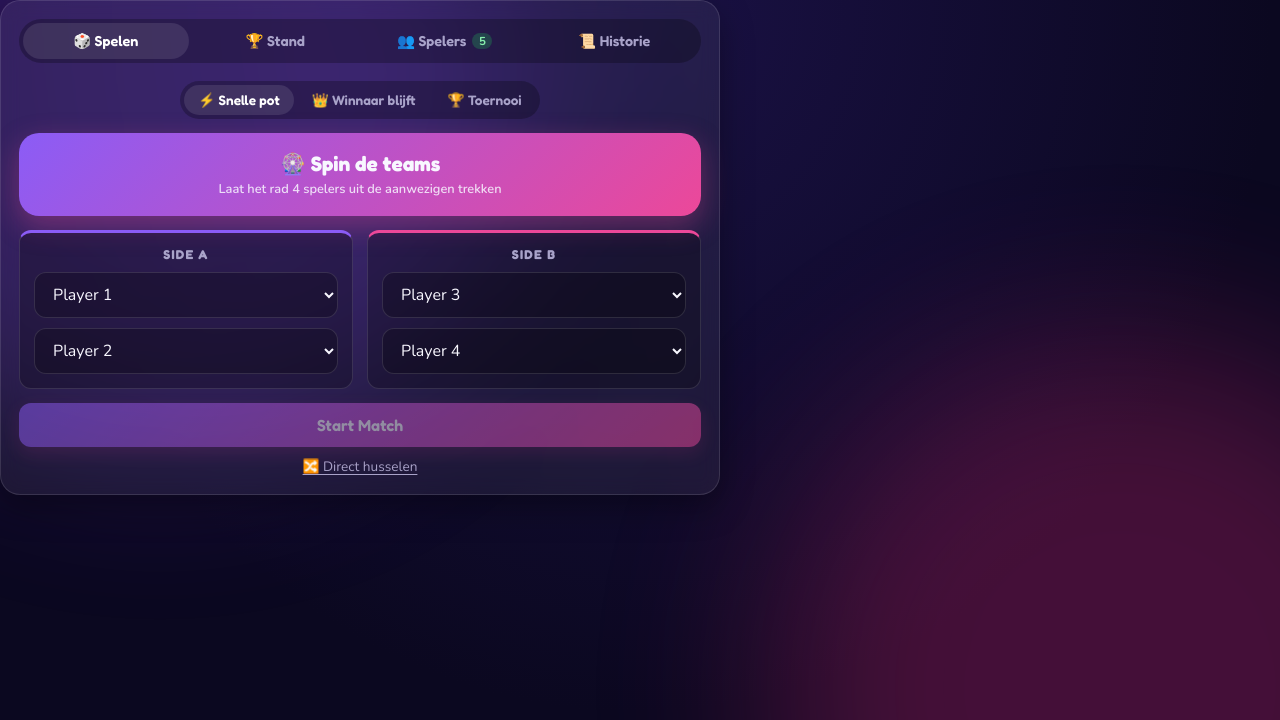
Test: spin for teams: the wheel draws four distinct present players
Expected: the tab "🎲 Spelen" is shown, [23,23,188,59]
Expected: the tab "👥 Spelers 5" is shown, [362,23,528,59]
Click the button "Spin de teams".
click(360, 174)  # box [19,133,701,216]
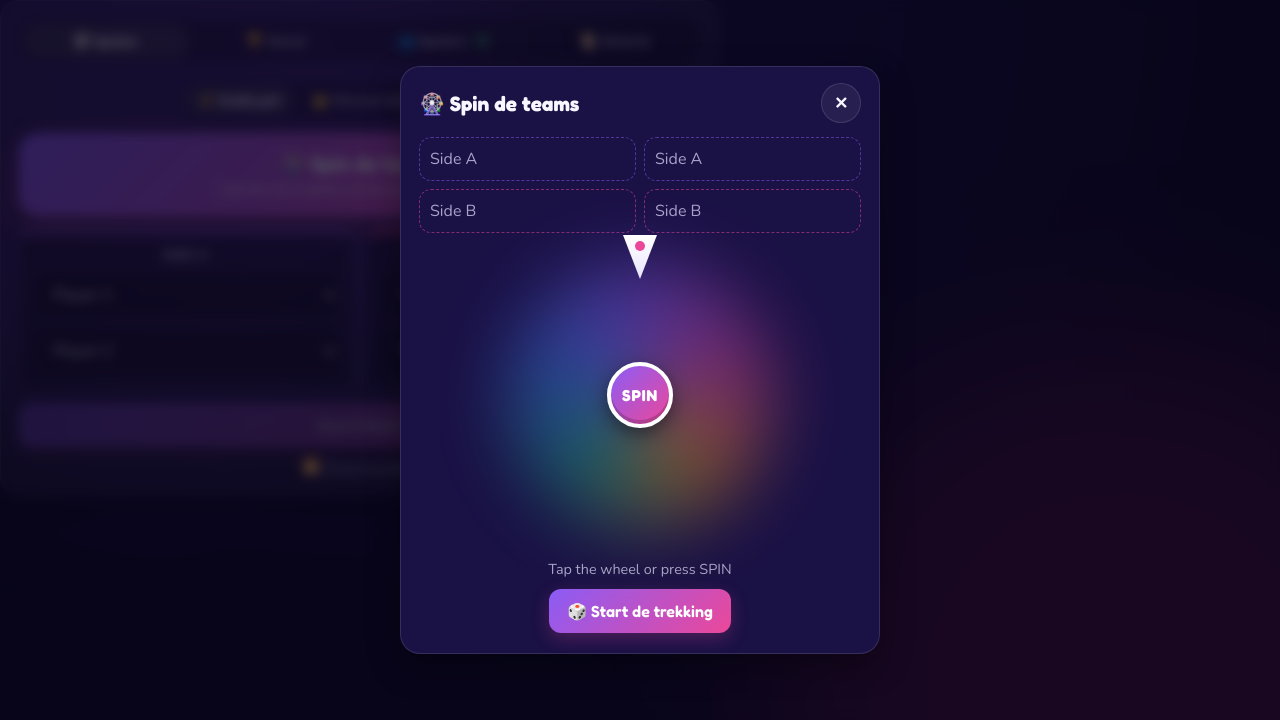
Click the button "🎲 Start de trekking".
click(640, 611)  # box [549,589,731,633]
Wait 3200 ms
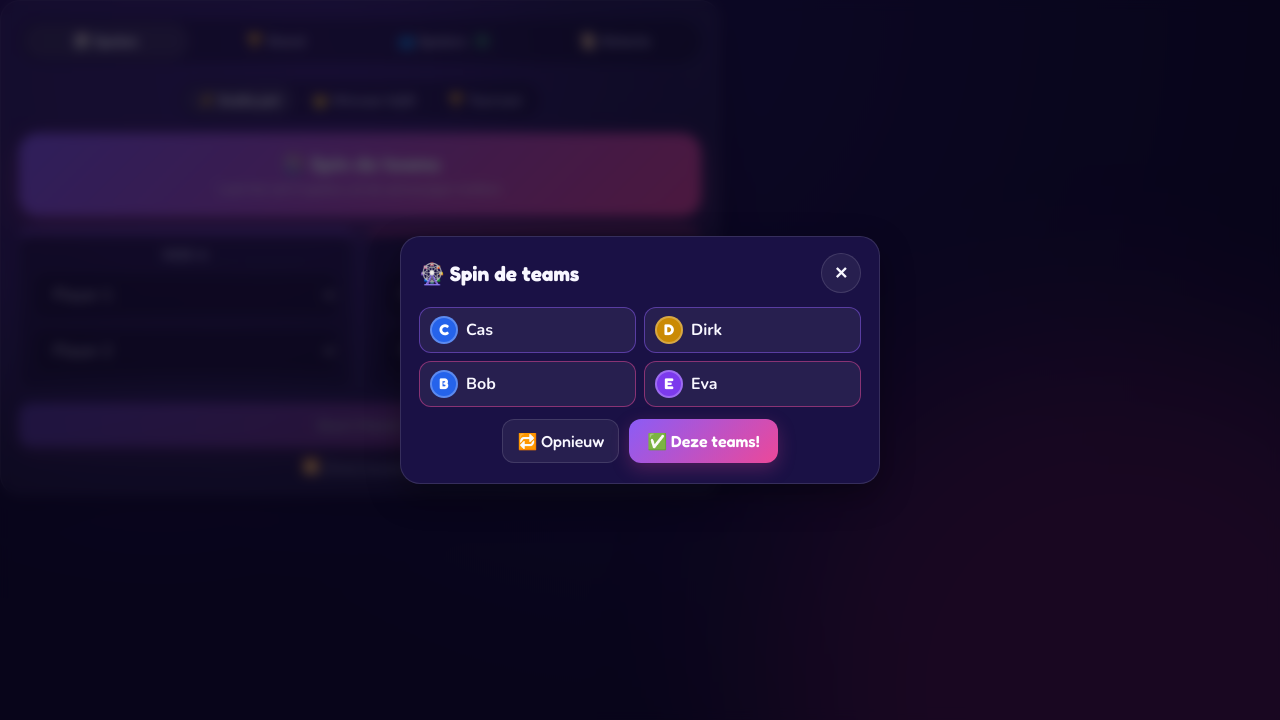
Click the button "✅ Deze teams!".
click(703, 441)  # box [629,419,778,463]
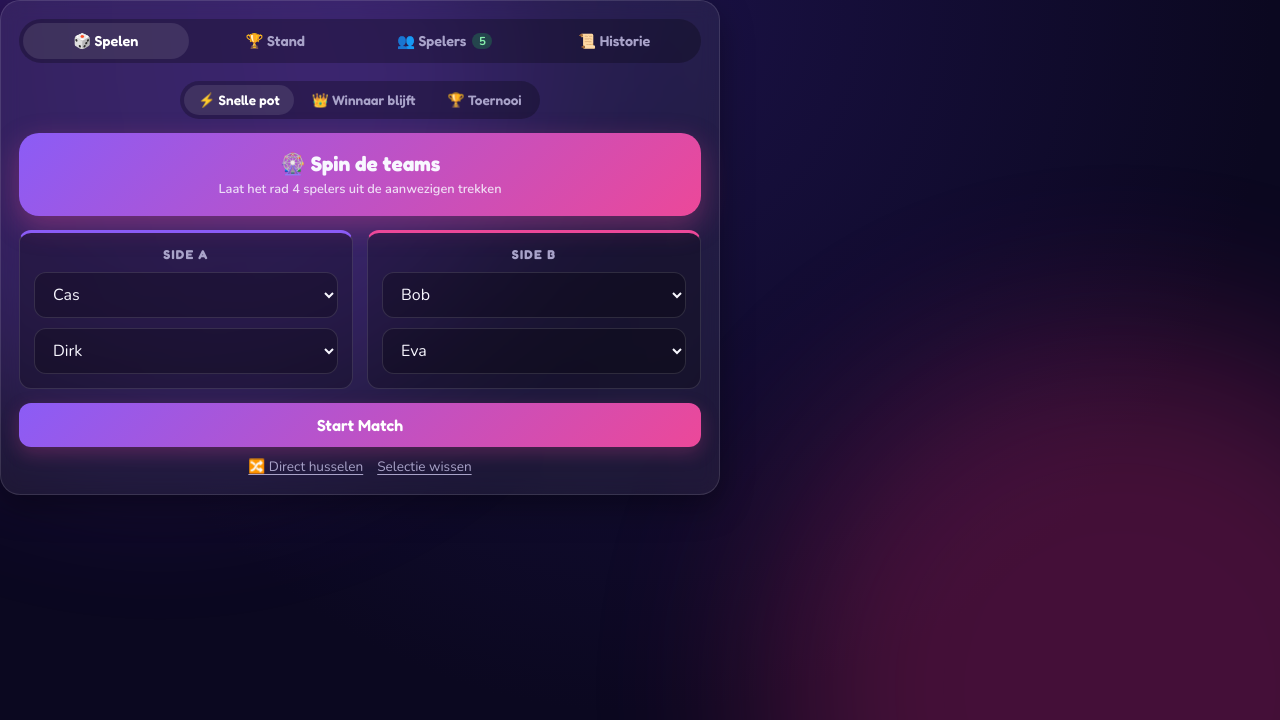
Expected: the button "Start Match" is enabled, [19,403,701,447]
